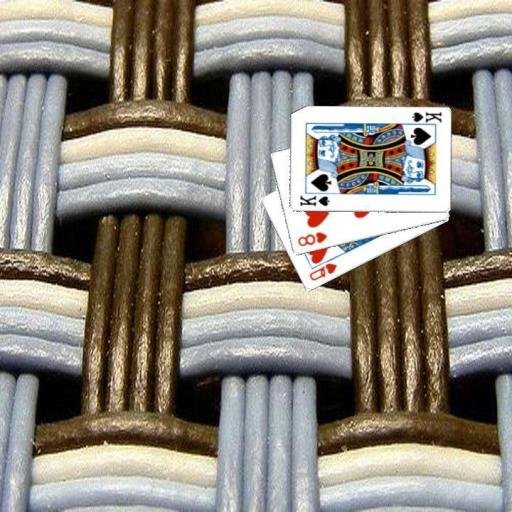8H: (295, 229, 329, 248)
KS: (406, 109, 442, 127), (297, 193, 331, 208)
QH: (306, 261, 338, 283)
